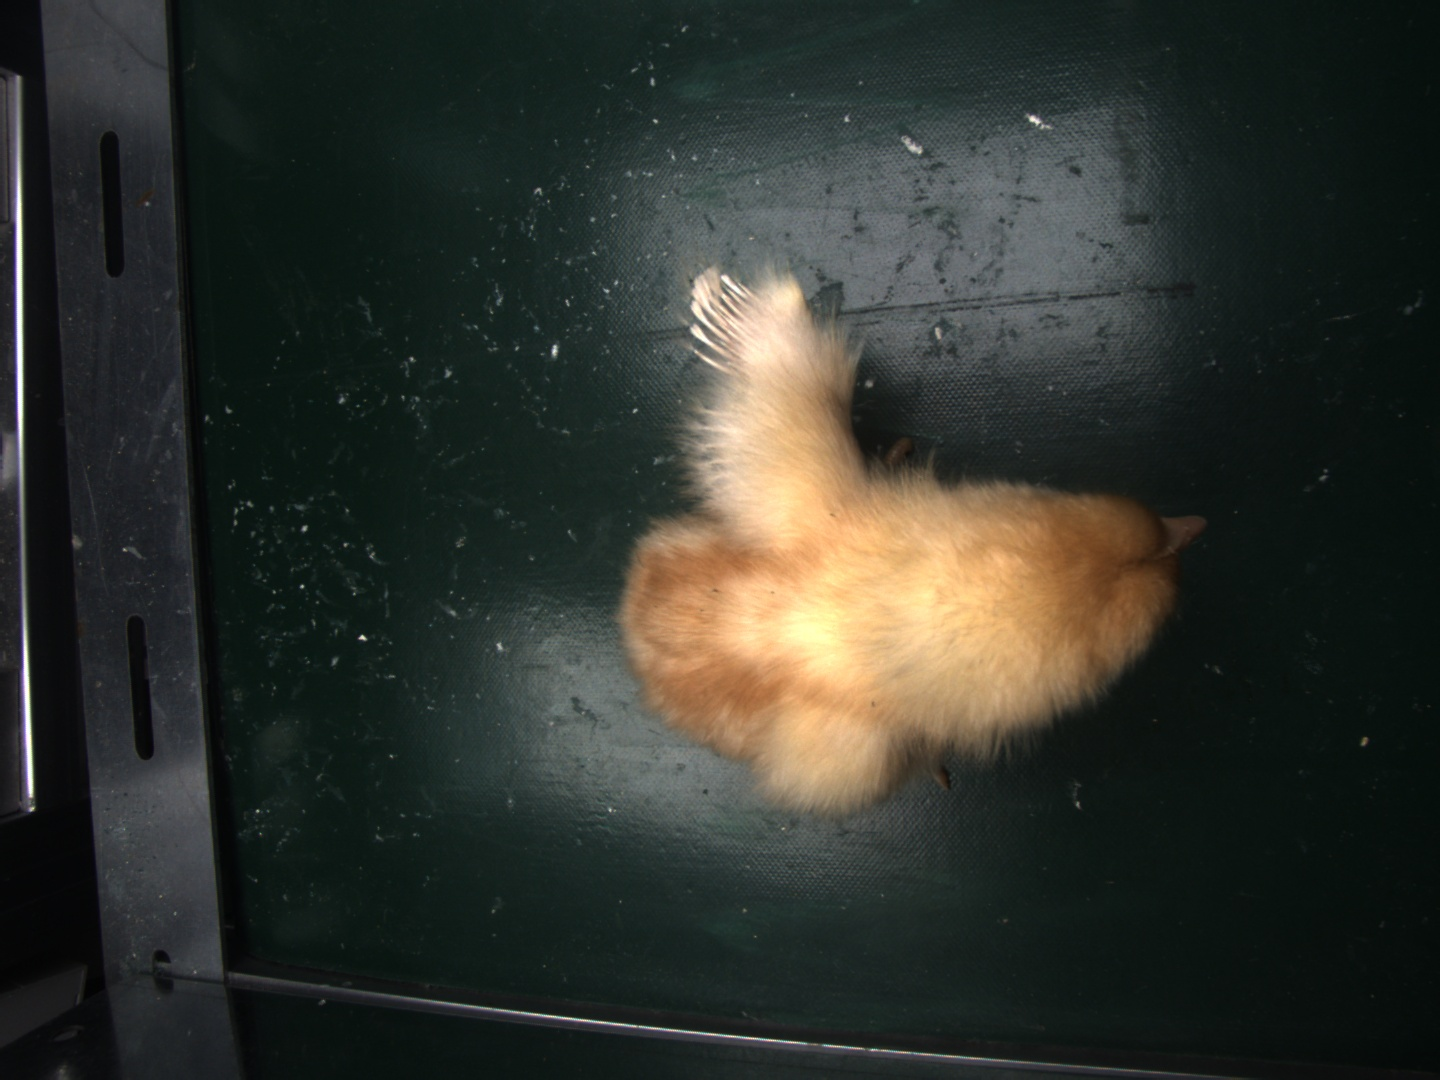female: (684, 268, 756, 364)
